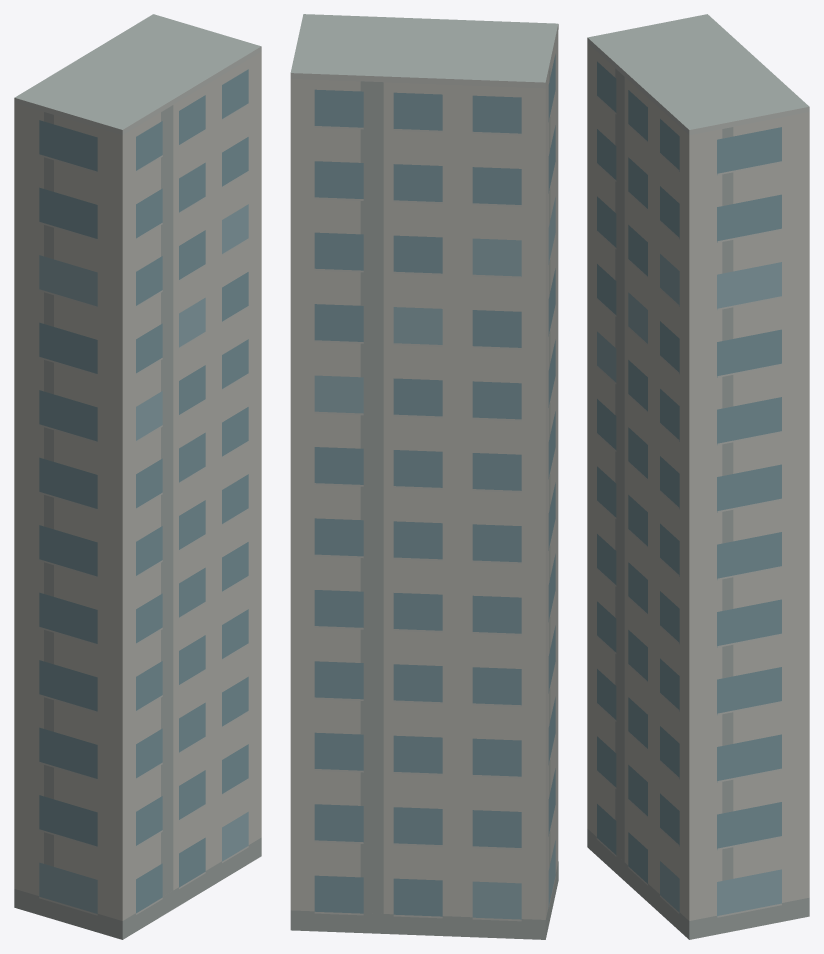
The model's file is survey-upis-32521700.glb.
3 views of the same model, side by side, from view 1: azimuth 30°, elevation 25°; view 2: azimuth 150°, elevation 25°; view 3: azimuth 270°, elevation 25° (orthographic). The views are drawn at different scales.
Visible parts, largest first — view 1: survey-upis-32521700.tmp; view 2: survey-upis-32521700.tmp; view 3: survey-upis-32521700.tmp.
Boxes of the visible parts, <box> form: survey-upis-32521700.tmp: <box>14,14,261,939</box>; survey-upis-32521700.tmp: <box>290,14,558,939</box>; survey-upis-32521700.tmp: <box>587,14,809,939</box>.
Bounding box in the file's own units: 11.26 × 36.6 × 9.11.
